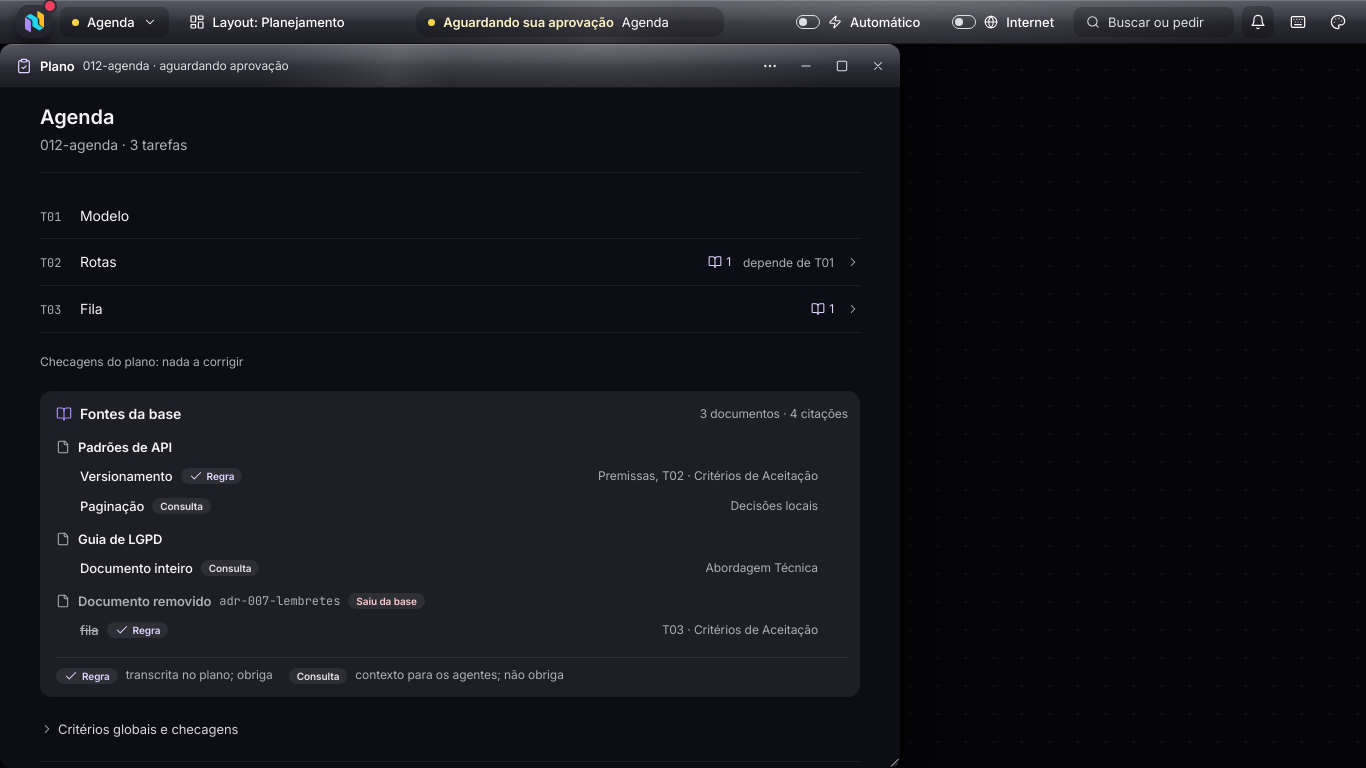
Test: Critérios com as citações como link › a tarefa com critérios abre a lista com os links; a sem critérios não abre
Check: the 1st element showing "1" is shown, box [708,253,731,272]
Click the button "T02 Rotas 1 depende de T01": (98, 262) [40,239,860,285]
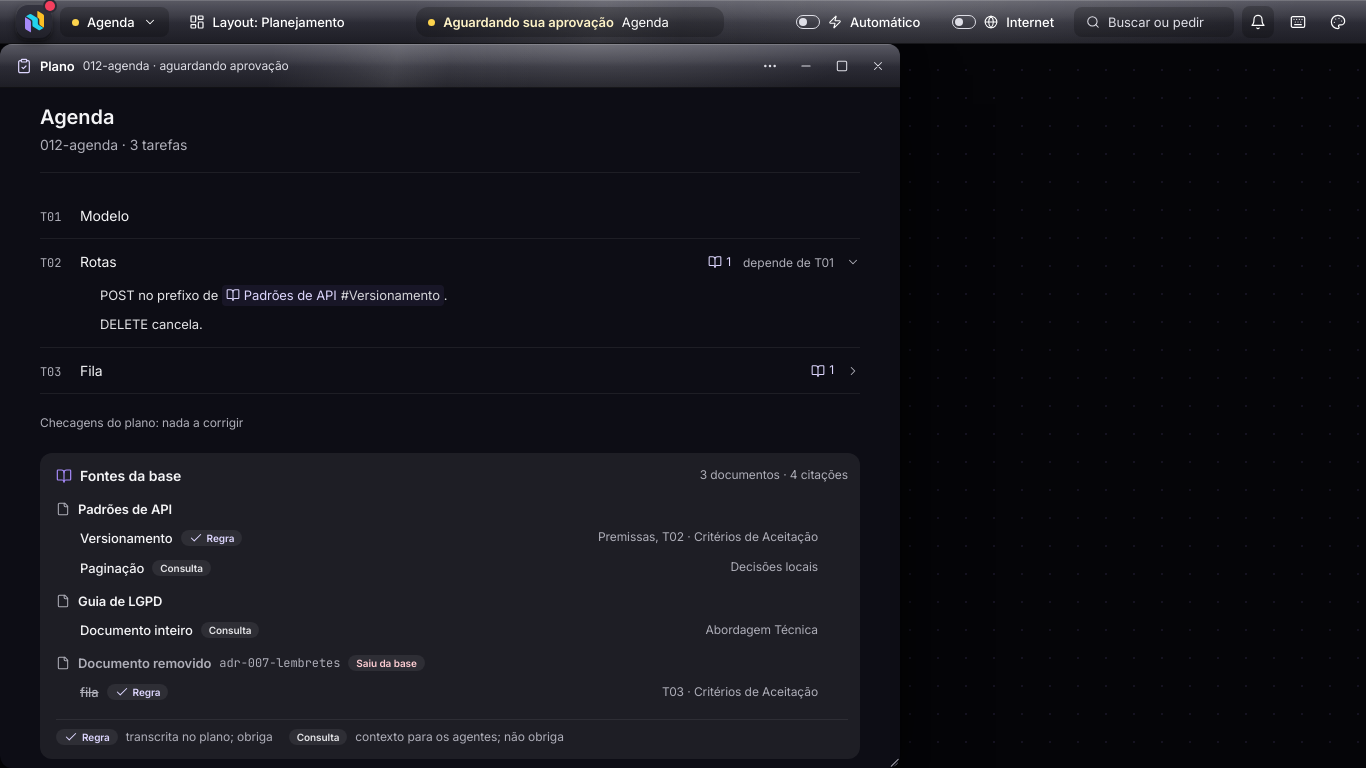
Check: the list named "Critérios de T02" shows "DELETE cancela.", box [100,316,203,332]
